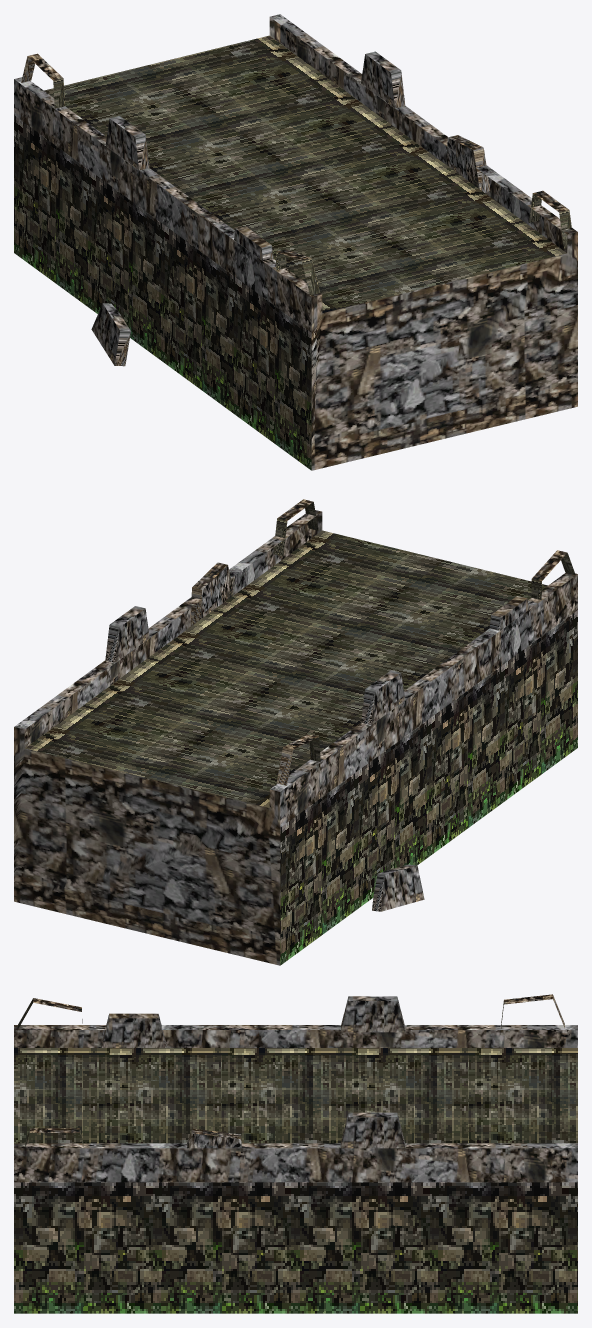
The model's file is Civilian - Civilian Building - Fortress Wall Middle - CMWalAkml1_E.glb.
3 views of the same model, one above another, from view 1: azimuth 30°, elevation 25°; view 2: azimuth 150°, elevation 25°; view 3: azimuth 270°, elevation 25° (orthographic). The views are drawn at different scales.
Visible parts, largest first — view 1: CMWALAKML1_E; view 2: CMWALAKML1_E; view 3: CMWALAKML1_E.
Boxes of the visible parts, x1,y1,x2,y2 form: CMWALAKML1_E: (14,14,577,470); CMWALAKML1_E: (14,499,577,965); CMWALAKML1_E: (14,994,577,1313).
Bounding box in the file's own units: 63.49 × 47.7 × 114.
Materials: 5 (5 with a texture image).
